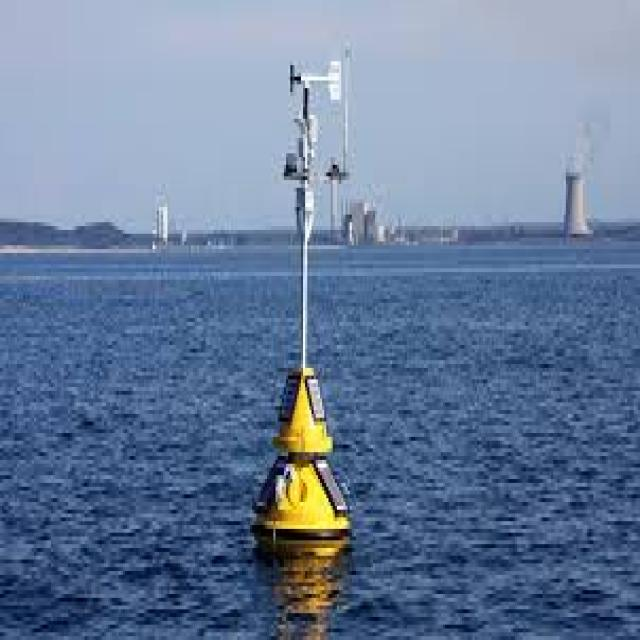2.5 sepcial mark: (238, 53, 356, 564)
